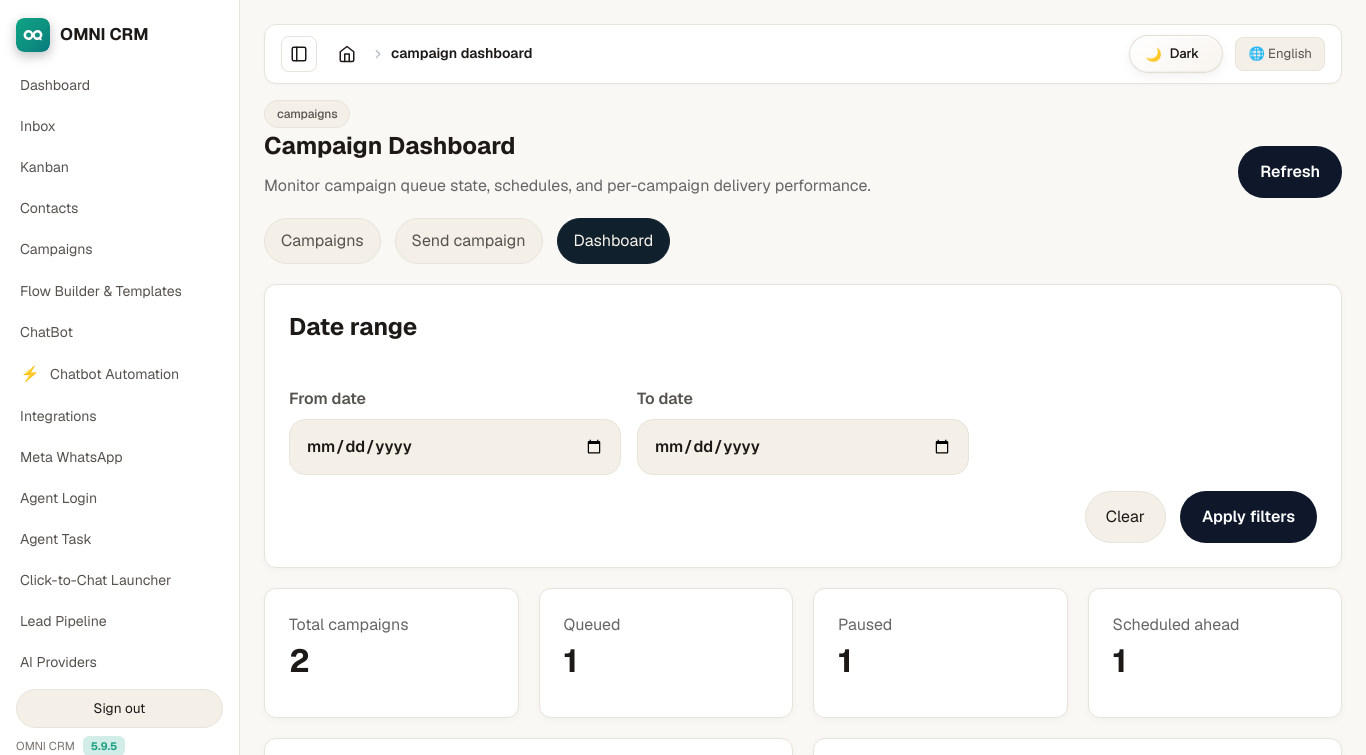
it: App routing shell › renders the campaign dashboard and loads delivery analytics
This screenshot has width=1366, height=755.
Expected: the heading "Campaign Dashboard" is shown, [264, 130, 516, 161]
Type "2026-06-01" into the date field labelled "From date" at {"x": 455, "y": 447}, box [289, 419, 621, 475]
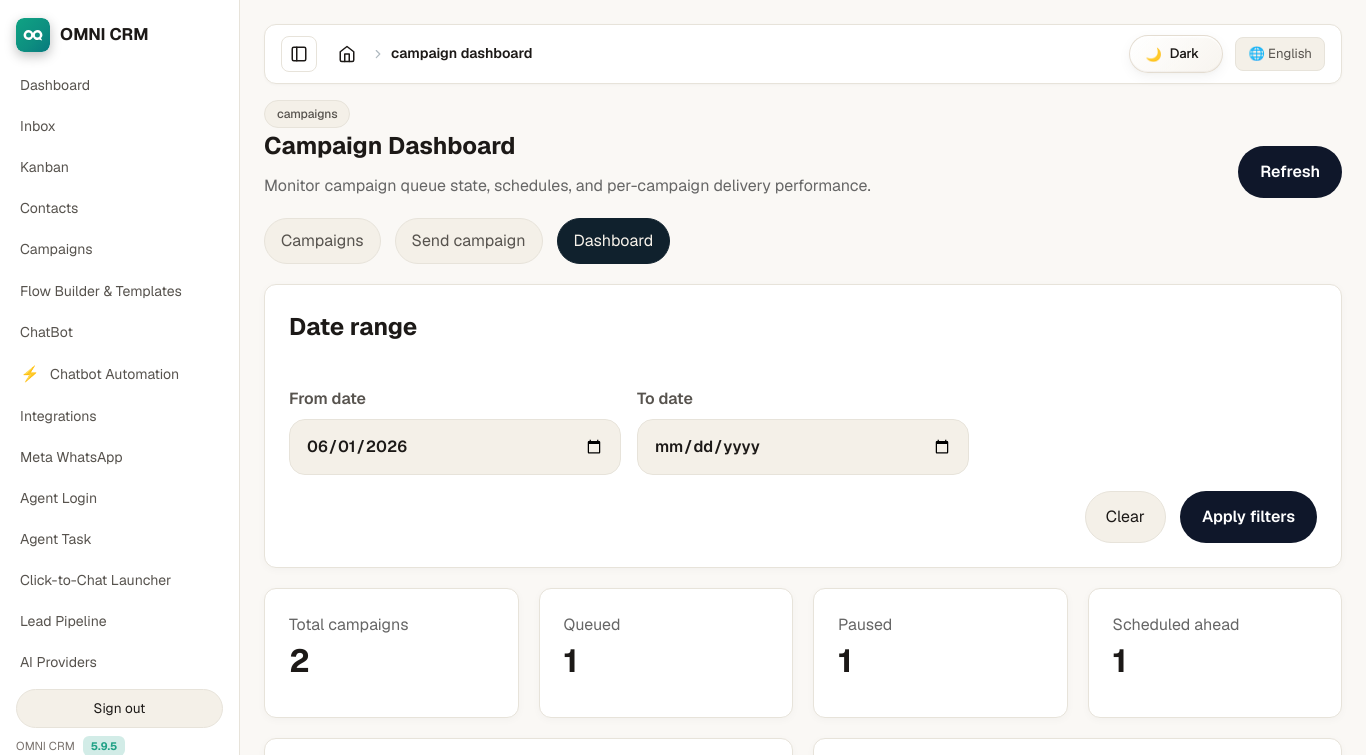
Type "2026-06-07" into the date field labelled "To date" at {"x": 803, "y": 447}, box [637, 419, 969, 475]
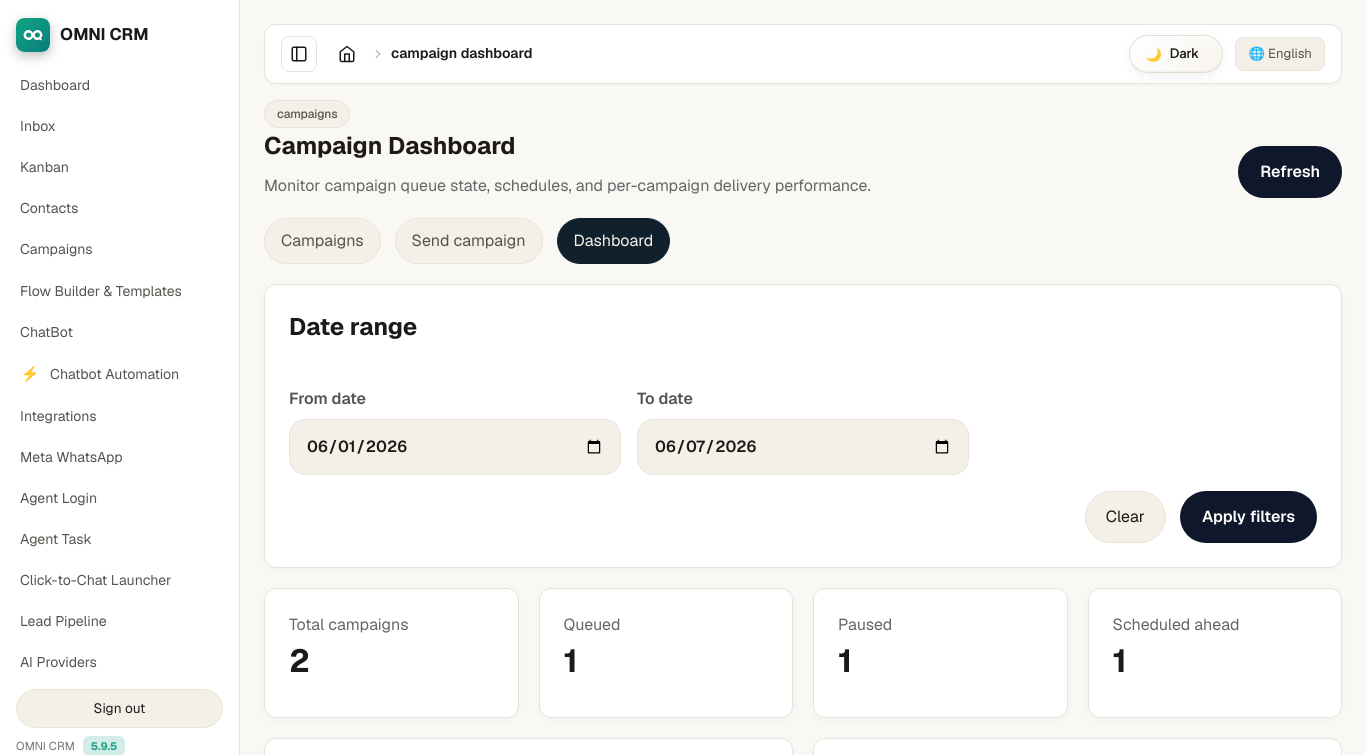
Click the button "Apply filters" at {"x": 1248, "y": 517}, box [1180, 491, 1317, 543]
(page scrolled)
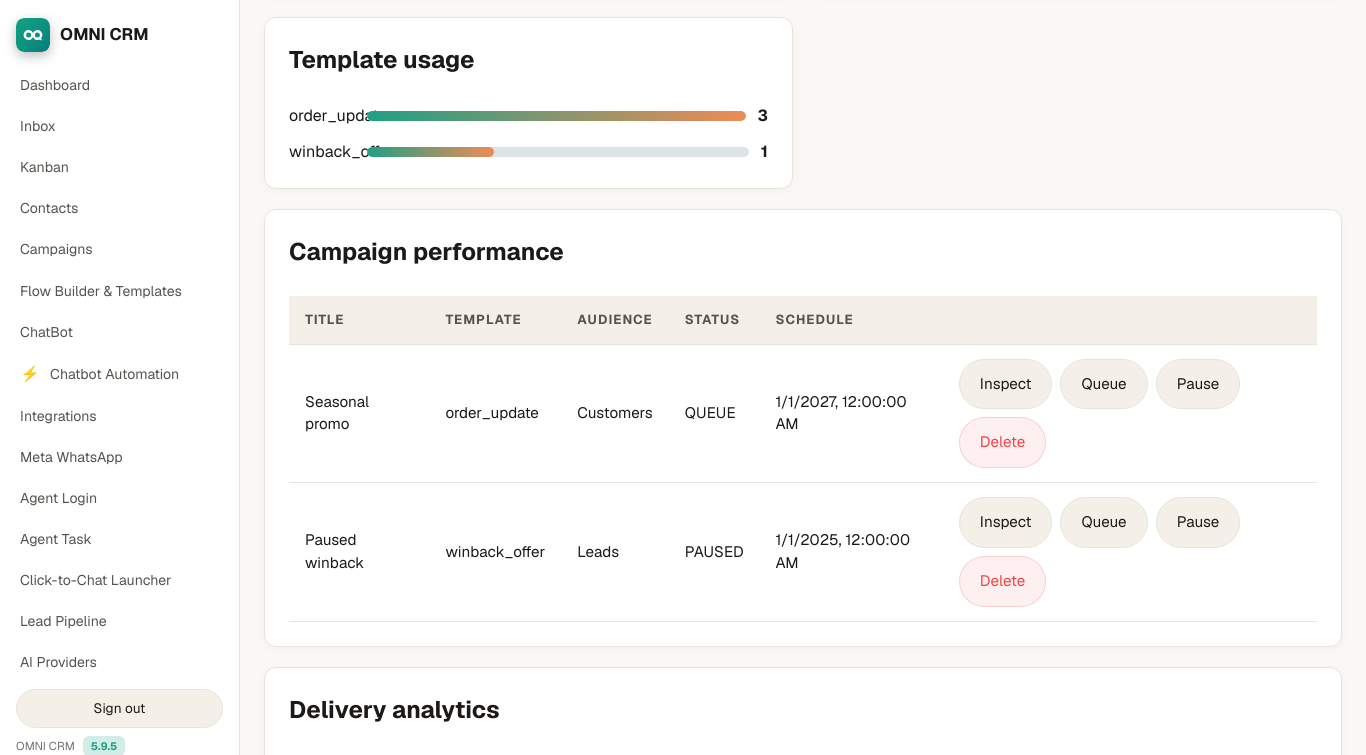
Expected: the heading "Template usage" is shown, [289, 42, 474, 78]
Expected: the text "Seasonal promo" is shown, [289, 344, 429, 483]
Expected: the text "Customers" is shown, [561, 344, 669, 483]
Click the button "Inspect" in the row of "Seasonal promo" at {"x": 1006, "y": 384}, box [959, 359, 1052, 410]
(page scrolled)
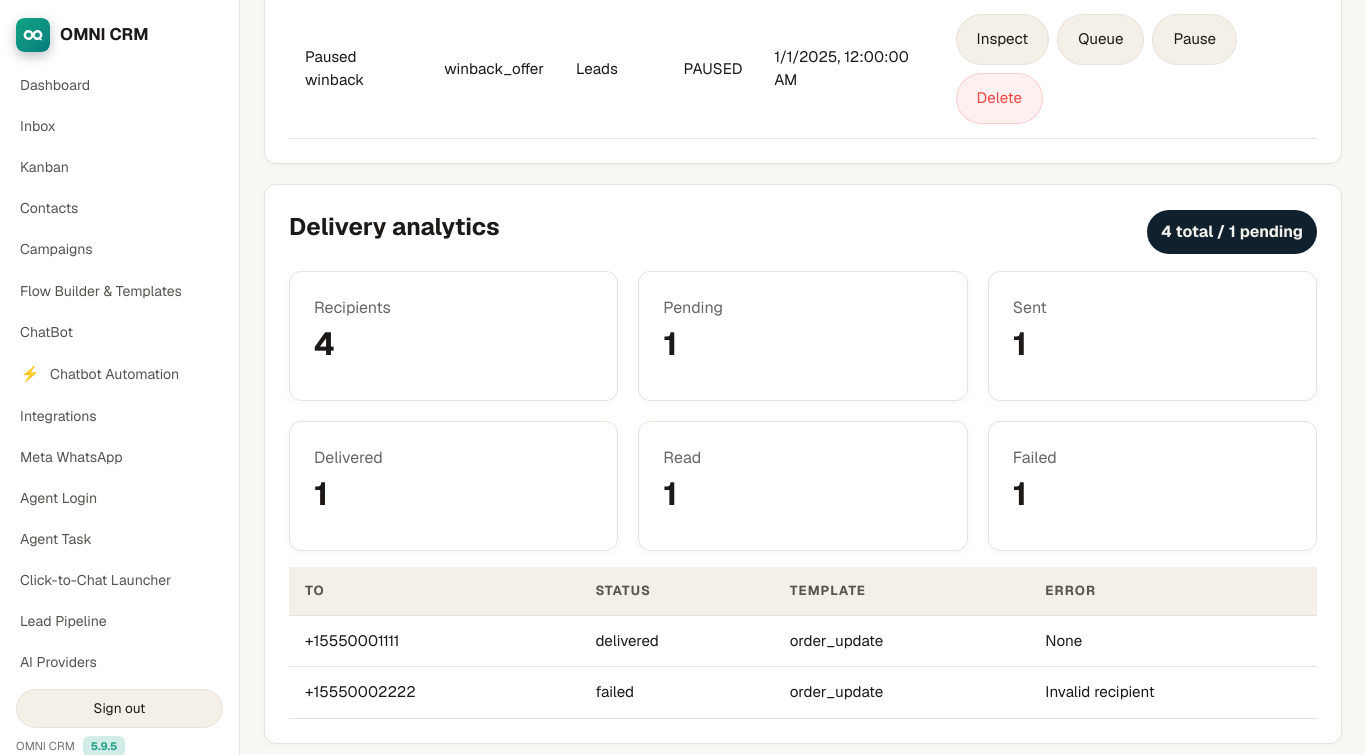
Expected: the text "Recipients" is shown, [314, 297, 391, 318]
Expected: the text "+15550001111" is shown, [289, 615, 579, 667]
Expected: the text "Invalid recipient" is shown, [1029, 667, 1317, 719]
